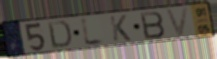5: (23, 21, 47, 52)
B: (138, 10, 167, 41)
D: (46, 19, 73, 50)
K: (108, 14, 132, 43)
L: (79, 15, 108, 48)
V: (164, 5, 191, 38)
